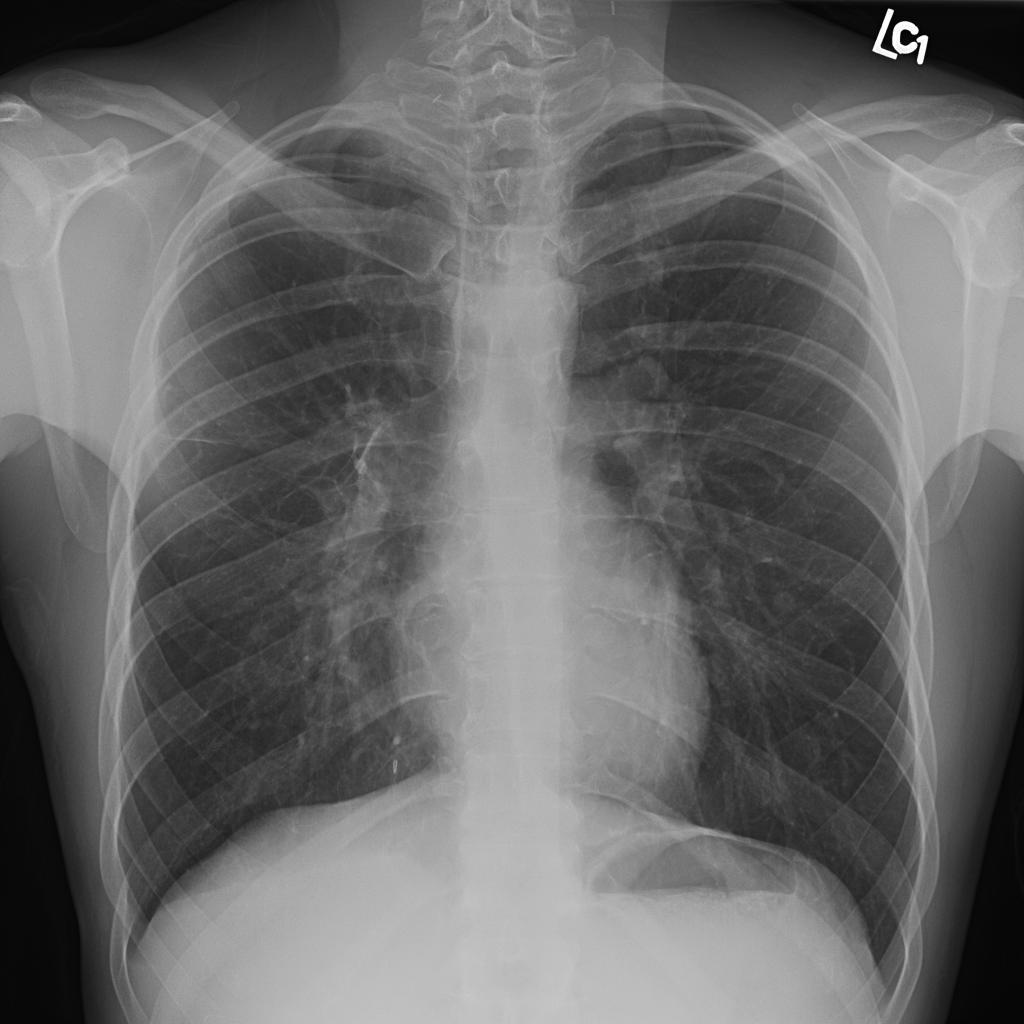Nodule: (300, 133, 325, 156), (170, 236, 192, 256), (193, 220, 214, 240), (171, 198, 189, 215)
